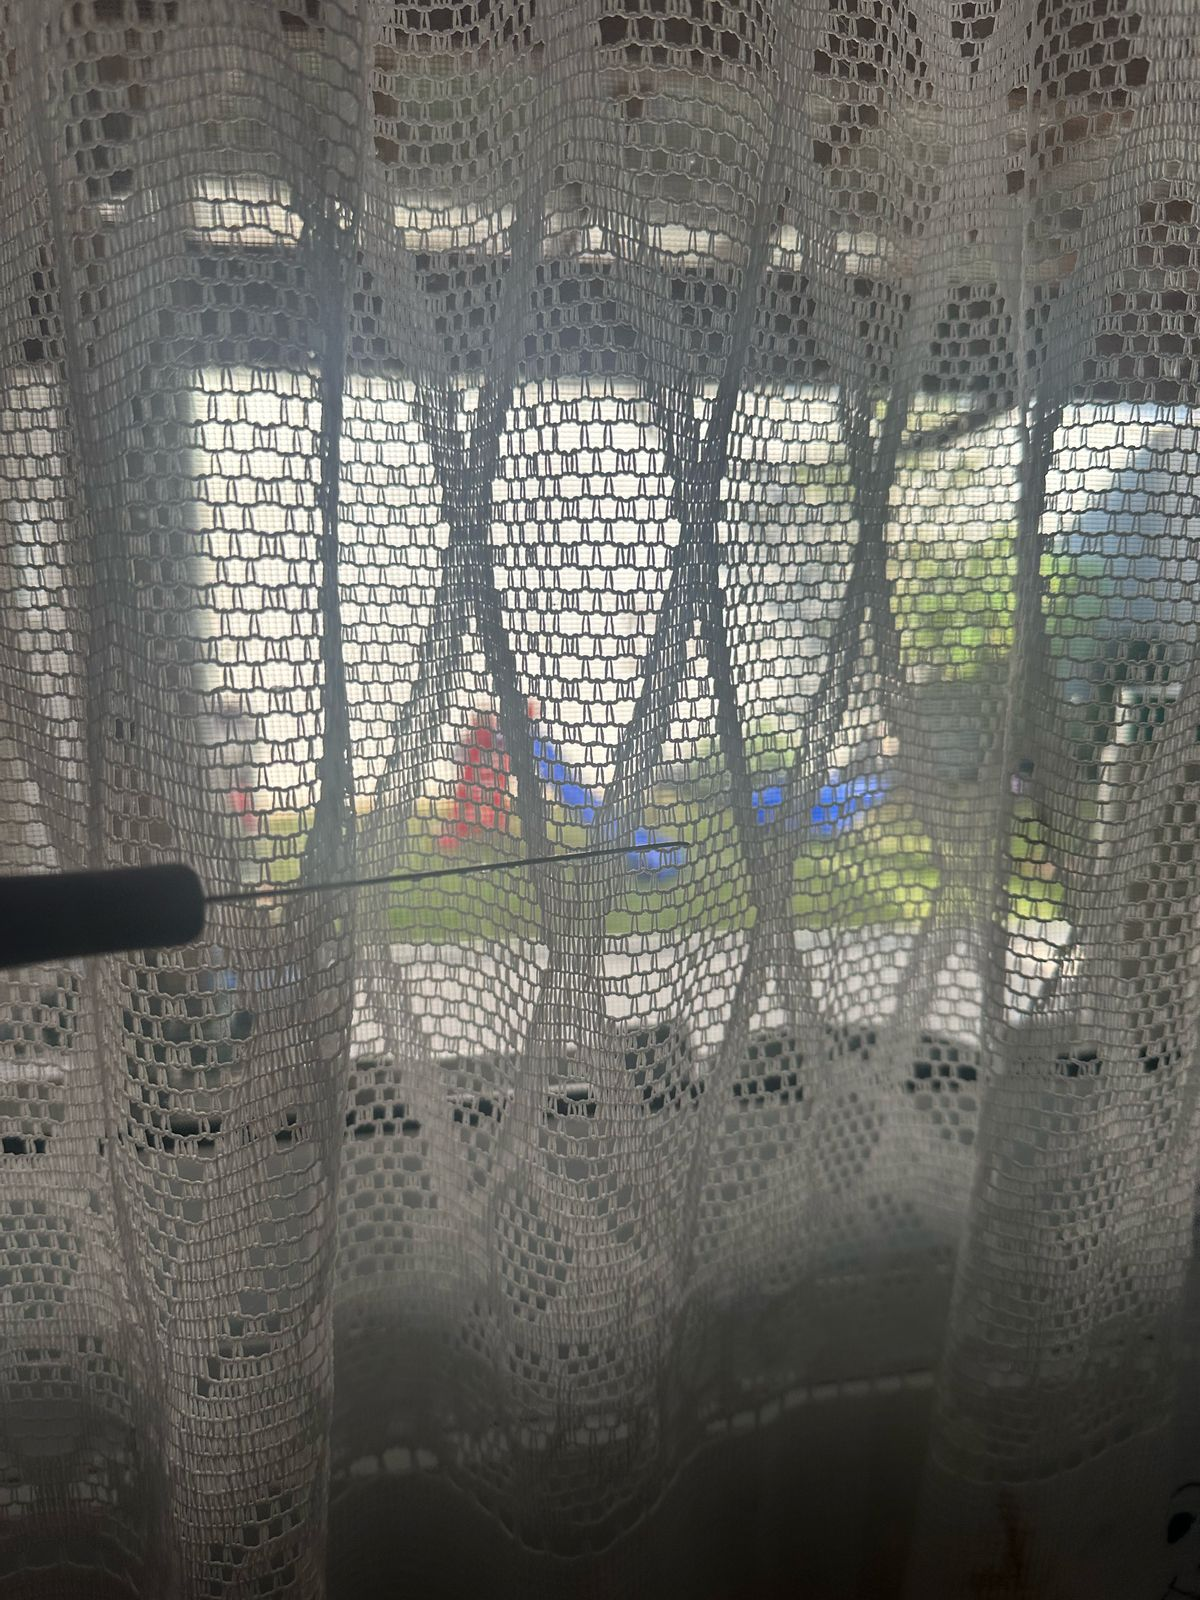faca: (19, 801, 698, 975)
